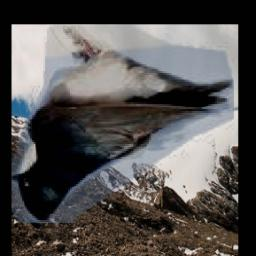Swallow: (12, 26, 235, 224)
